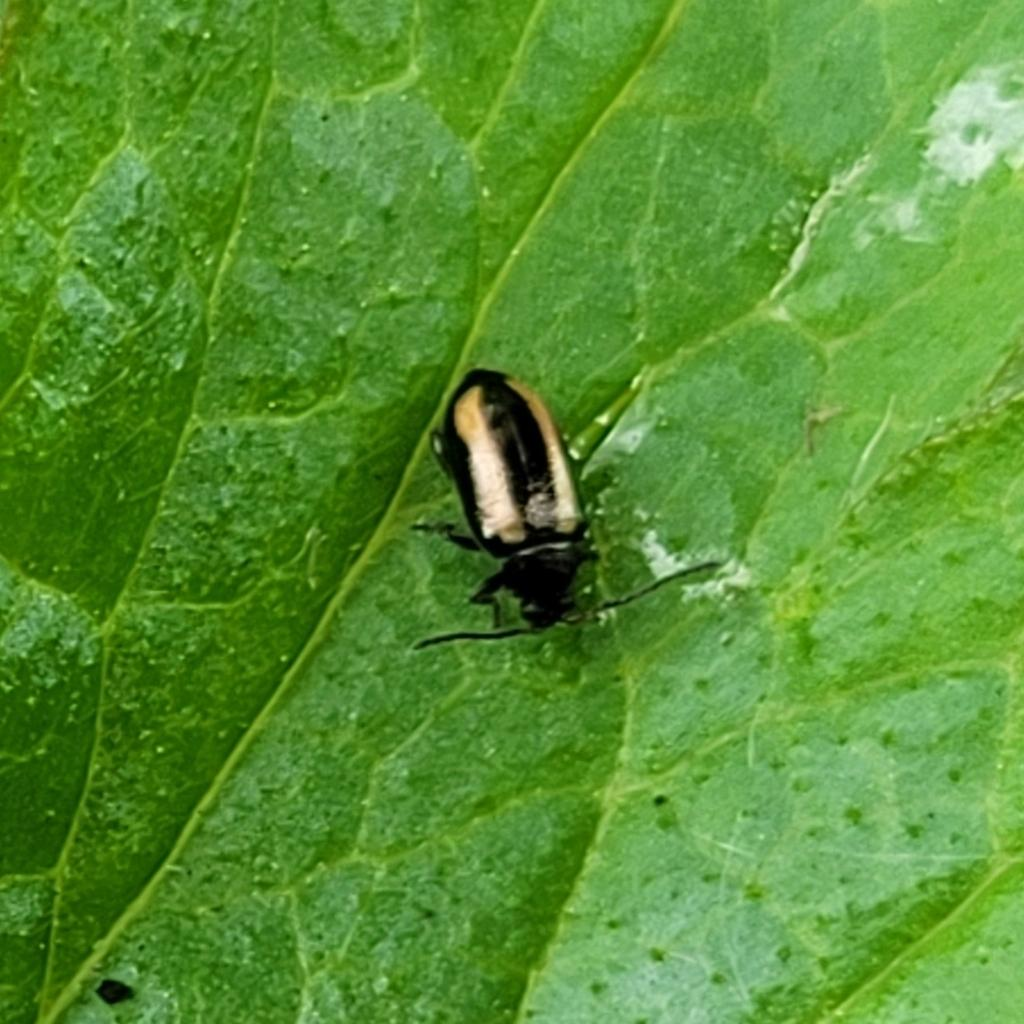flea_beetle: (371, 313, 745, 711)
